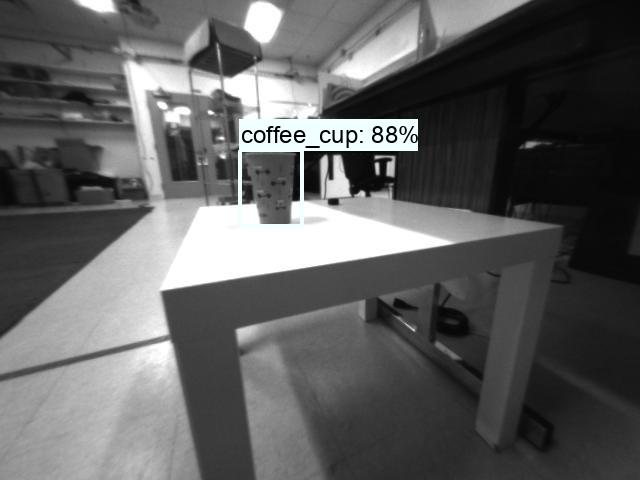coffee_cup: (238, 151, 309, 227)
